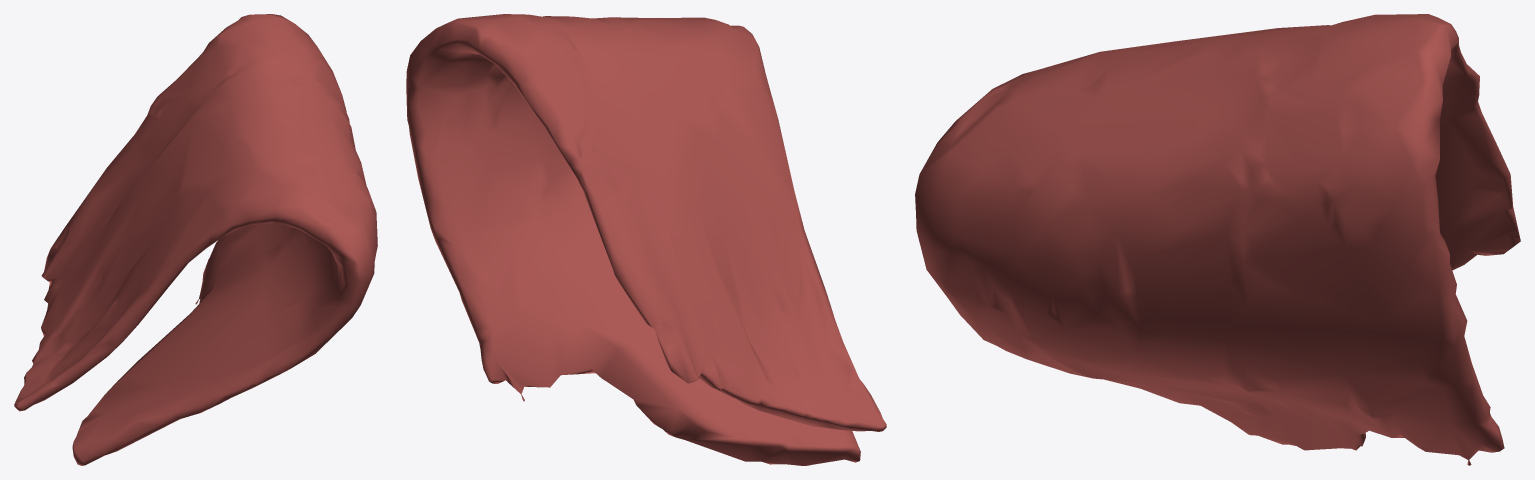
File: FMA264840.glb
3 views of the same model, side by side, from view 1: azimuth 30°, elevation 25°; view 2: azimuth 150°, elevation 25°; view 3: azimuth 270°, elevation 25° (orthographic). The views are drawn at different scales.
Parts seen in each view (by area): view 1: FMA264840; view 2: FMA264840; view 3: FMA264840.
Part boxes in pixels (left/top/right/bottom): FMA264840: left=14, top=14, right=377, bottom=465; FMA264840: left=406, top=14, right=886, bottom=465; FMA264840: left=915, top=14, right=1520, bottom=465.
Size of the model in its own units: 0.00766 by 0.00728 by 0.00689.
